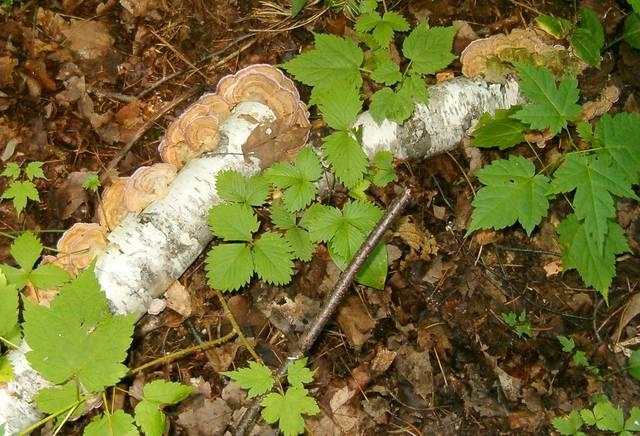Non-edible Mushroom: (90, 62, 313, 319), (350, 73, 523, 165)
